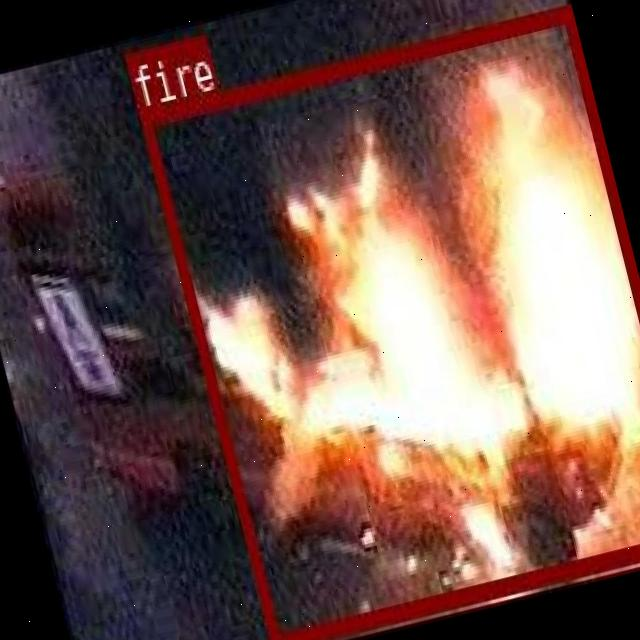fire: (137, 2, 640, 640)
